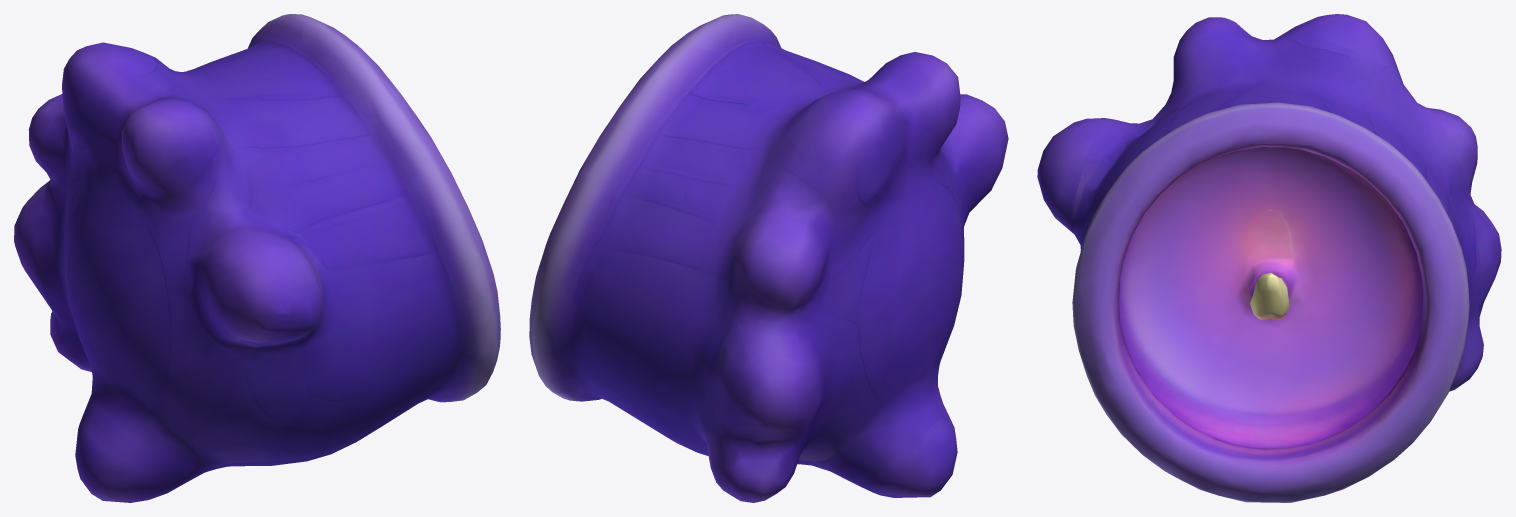
Rendered from purple+candle+3d+model.obj.
3 views of the same model, side by side, from view 1: azimuth 30°, elevation 25°; view 2: azimuth 150°, elevation 25°; view 3: azimuth 270°, elevation 25° (orthographic). The views are drawn at different scales.
Parts seen in each view (by area): view 1: tripo_node_f2c0db0b-555e-40f5-8a4a-f655d397c735; view 2: tripo_node_f2c0db0b-555e-40f5-8a4a-f655d397c735; view 3: tripo_node_f2c0db0b-555e-40f5-8a4a-f655d397c735.
Boxes of the visible parts, x1,y1,x2,y2 form: tripo_node_f2c0db0b-555e-40f5-8a4a-f655d397c735: (14,14,500,502); tripo_node_f2c0db0b-555e-40f5-8a4a-f655d397c735: (529,14,1008,502); tripo_node_f2c0db0b-555e-40f5-8a4a-f655d397c735: (1037,14,1501,502).
Size of the model in its own units: 0.8405 by 0.9374 by 1.
Materials: 1 (1 with a texture image).
